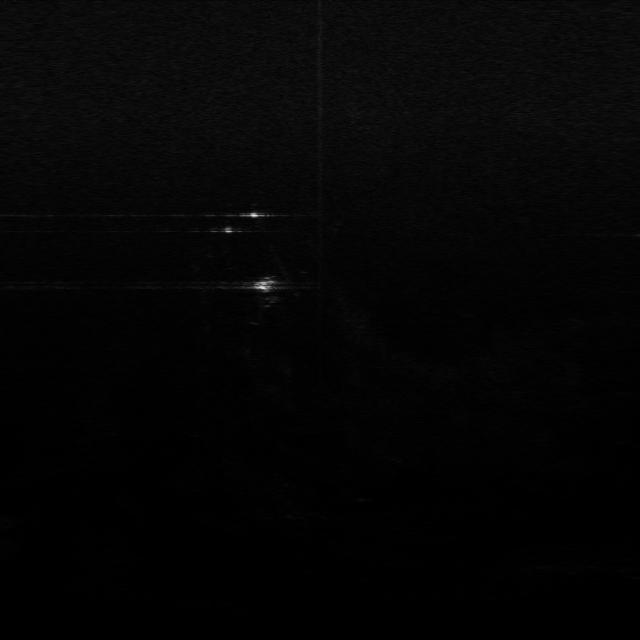rov: (248, 273, 278, 295)
